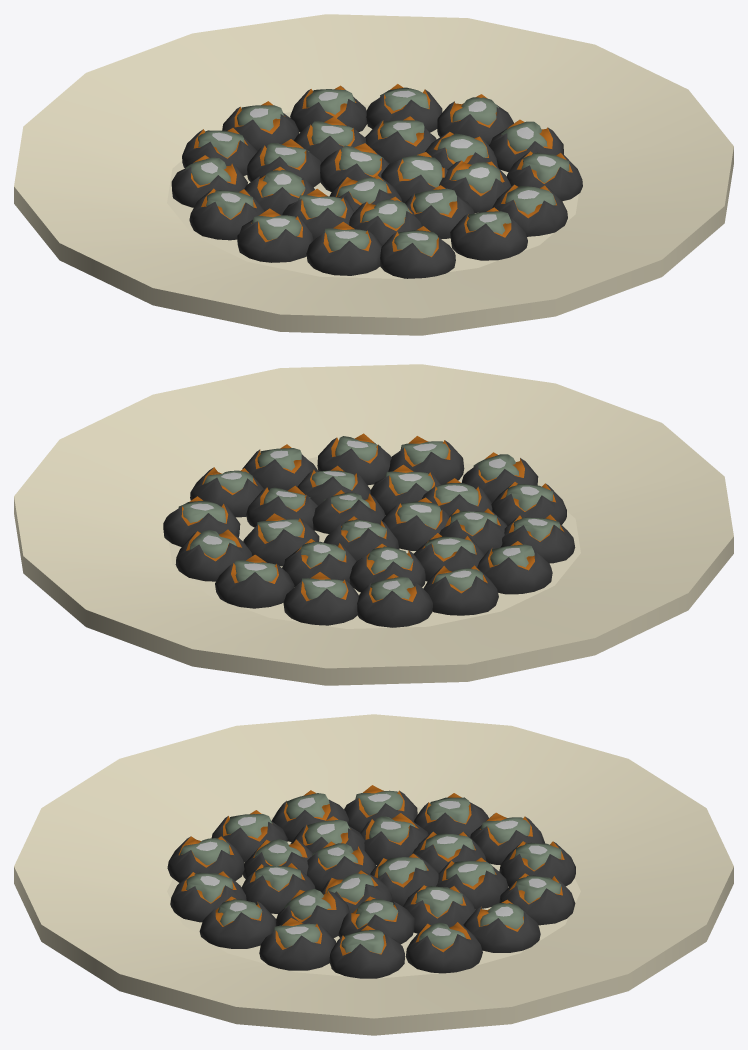
File: SainteMaureOverCooked.fbx
3 renders of one model, top to bottom at view 1: azimuth 30°, elevation 25°; view 2: azimuth 150°, elevation 25°; view 3: azimuth 270°, elevation 25°, orthographic.
Visible parts, largest first — view 1: Sainte_Maure_OverCooked; view 2: Sainte_Maure_OverCooked; view 3: Sainte_Maure_OverCooked.
Boxes of the visible parts, box(x1,y1,x2,y2) form: Sainte_Maure_OverCooked: box(14, 14, 733, 335); Sainte_Maure_OverCooked: box(14, 364, 733, 685); Sainte_Maure_OverCooked: box(14, 714, 733, 1035).
Bounding box in the file's own units: 0.6488 × 0.6488 × 0.0688.
